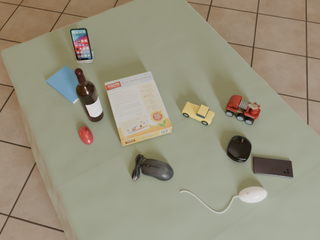book: (46, 66, 79, 104)
bottle: (74, 68, 103, 122)
box: (105, 72, 172, 146)
mouse: (132, 154, 173, 181), (227, 136, 251, 162), (239, 187, 267, 203), (79, 126, 93, 144)
phone: (253, 157, 293, 178), (70, 28, 92, 60)
toy_car: (226, 95, 260, 125), (182, 102, 214, 125)
